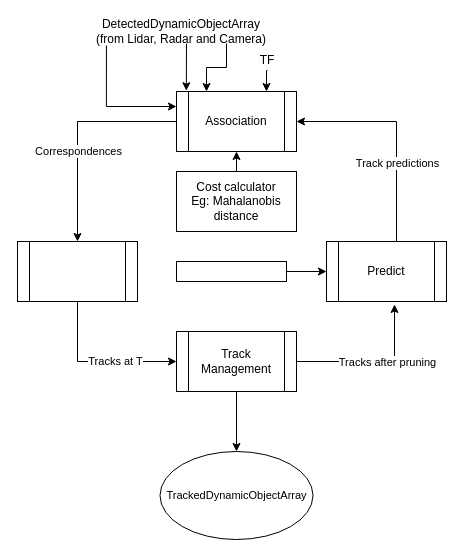
Image size: 464x557. Some labels were removed from this diagram. Each missing label, with the box of its shape:
Motion Model(s): (176, 260, 286, 282)
Update: (16, 240, 138, 302)
